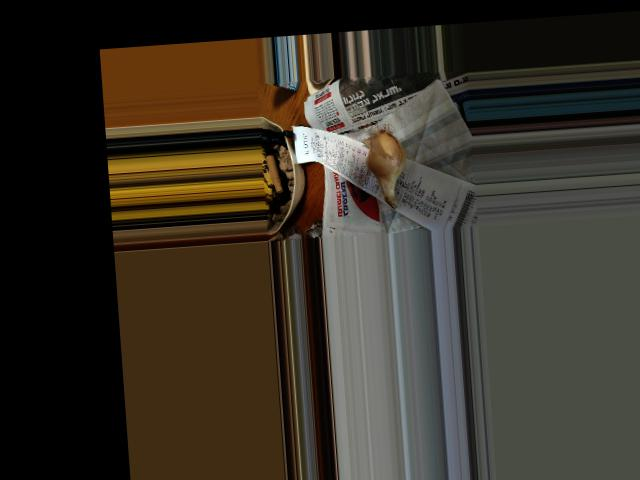onion: (366, 131, 403, 183)
